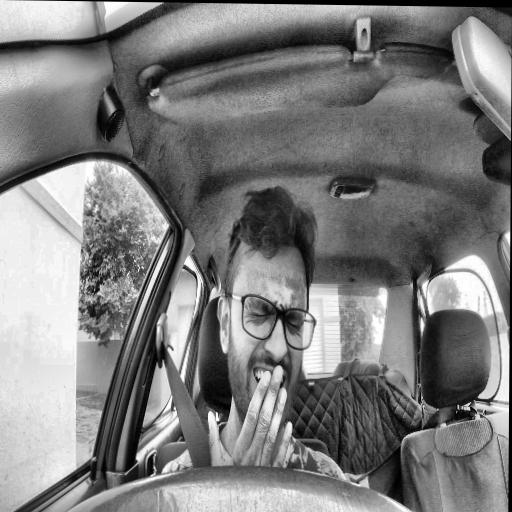drowsy: (216, 185, 317, 433)
